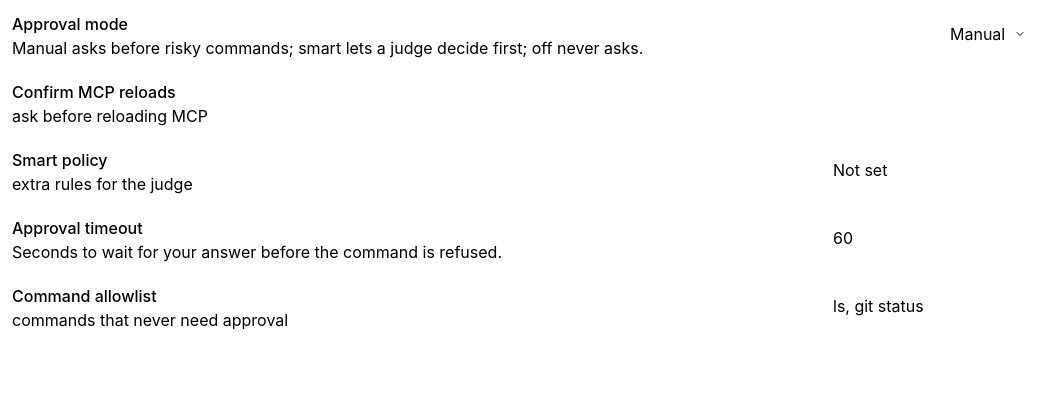
Test case: schema page › a managed install disables the page with the backend's reason
The width and height of the screenshot is (1048, 405).
Step 1. Select "Off" in the dropdown labelled "Approval mode" → (988, 34), box x1=939 y1=19 x2=1036 y2=49
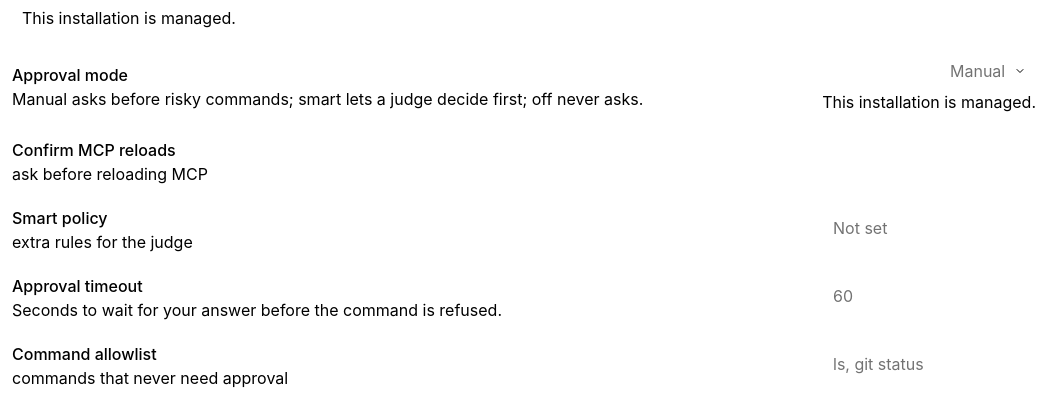
Expected: the text "This installation is managed." is shown, x1=22 y1=8 x2=236 y2=28
Expected: the dropdown labelled "Approval mode" is disabled, x1=939 y1=56 x2=1036 y2=86
